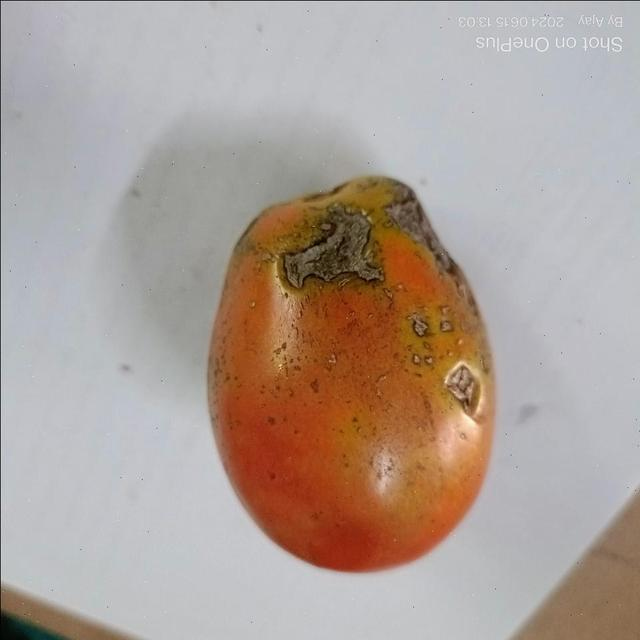Bacterial Spot Fruit: (16, 19, 309, 260)
